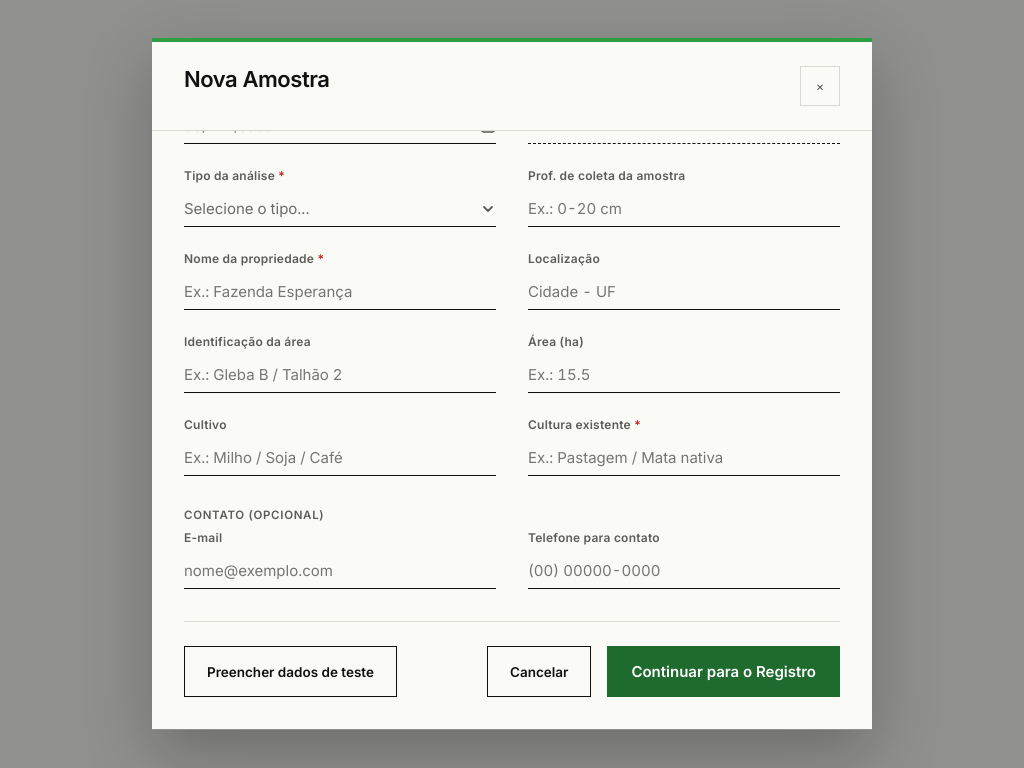
Test: NovaAmostraModal › bloqueia o envio e foca o primeiro campo inválido
(page scrolled)
Click the button "Continuar para o Registro".
click(724, 672)  # box [607, 646, 840, 697]
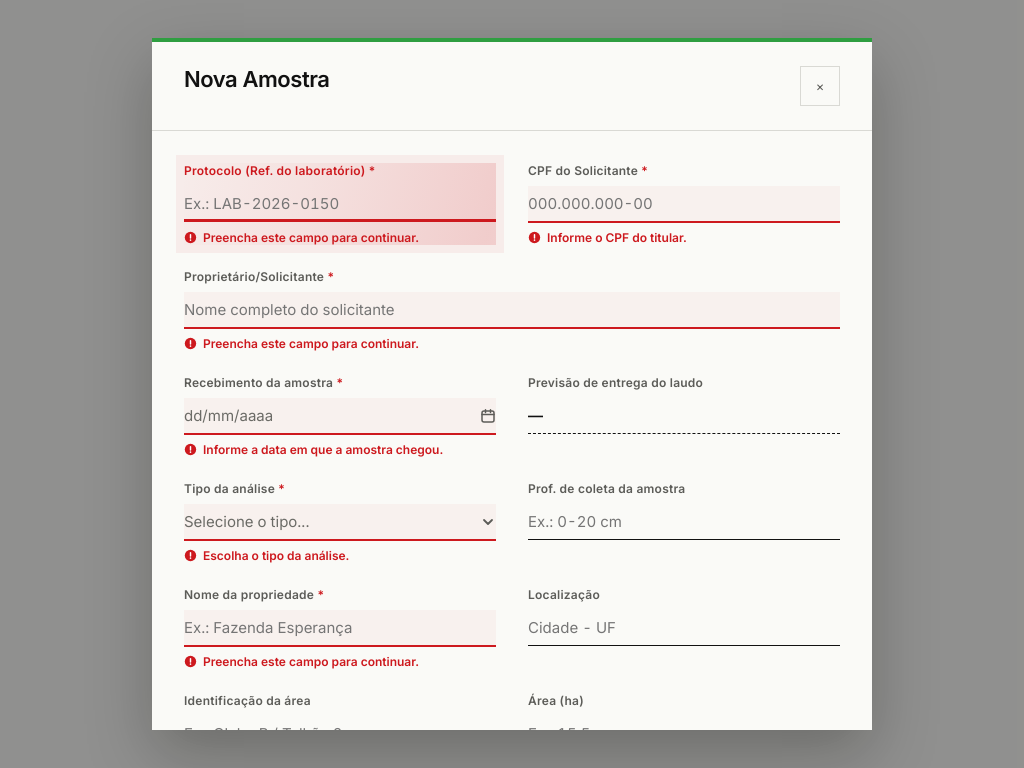
Expected: the text "Preencha este campo para continuar." below "Protocolo (Ref. do laboratório)" is shown, [203, 230, 419, 245]
Expected: the text "Escolha o tipo da análise." is shown, [184, 548, 349, 563]
Expected: the text "Informe a data em que a amostra chegou." is shown, [184, 442, 443, 457]
